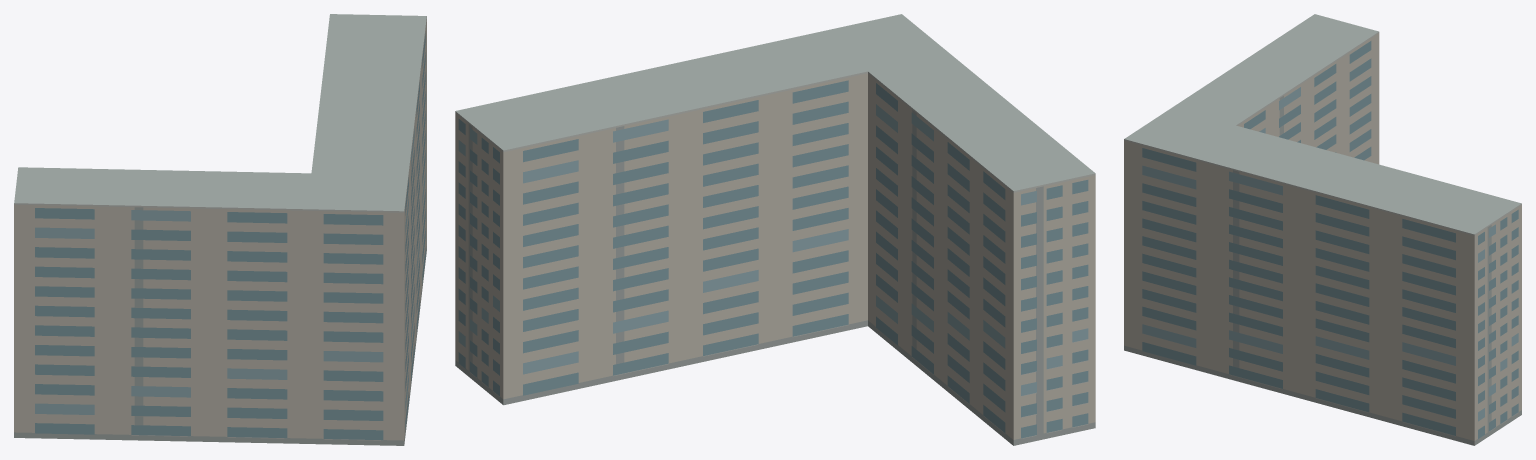
The model's file is residential-6d063bd7-7807-4b6f-9ff3-46ff1bf74c06.glb.
The picture shows the model from 3 angles, left to right: view 1: azimuth 30°, elevation 25°; view 2: azimuth 150°, elevation 25°; view 3: azimuth 270°, elevation 25°; orthographic projection. The views are drawn at different scales.
Visible parts, largest first — view 1: residential-6d063bd7-7807-4b6f-9ff3-46ff1bf74c06.tmp; view 2: residential-6d063bd7-7807-4b6f-9ff3-46ff1bf74c06.tmp; view 3: residential-6d063bd7-7807-4b6f-9ff3-46ff1bf74c06.tmp.
Part boxes in pixels (x1,y1,x2,y2): residential-6d063bd7-7807-4b6f-9ff3-46ff1bf74c06.tmp: (14, 14, 426, 445); residential-6d063bd7-7807-4b6f-9ff3-46ff1bf74c06.tmp: (455, 14, 1095, 445); residential-6d063bd7-7807-4b6f-9ff3-46ff1bf74c06.tmp: (1124, 14, 1521, 445).
Bounding box in the file's own units: 81.82 × 36.6 × 62.38.
